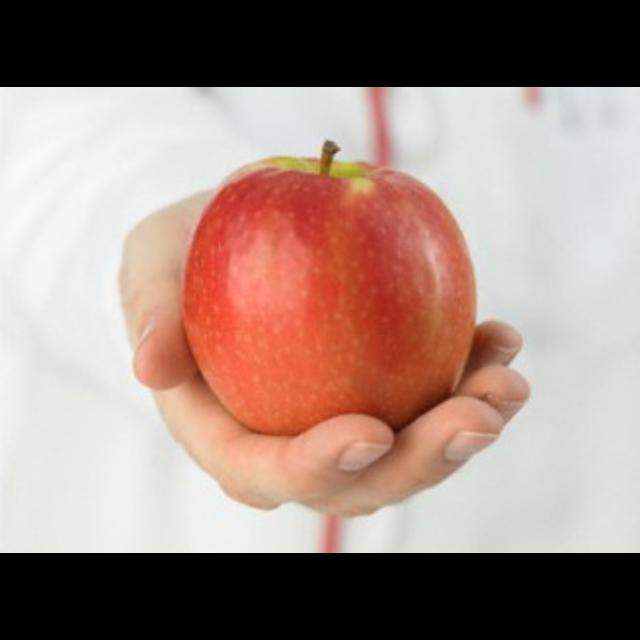Apel Segar: (191, 153, 483, 433)
